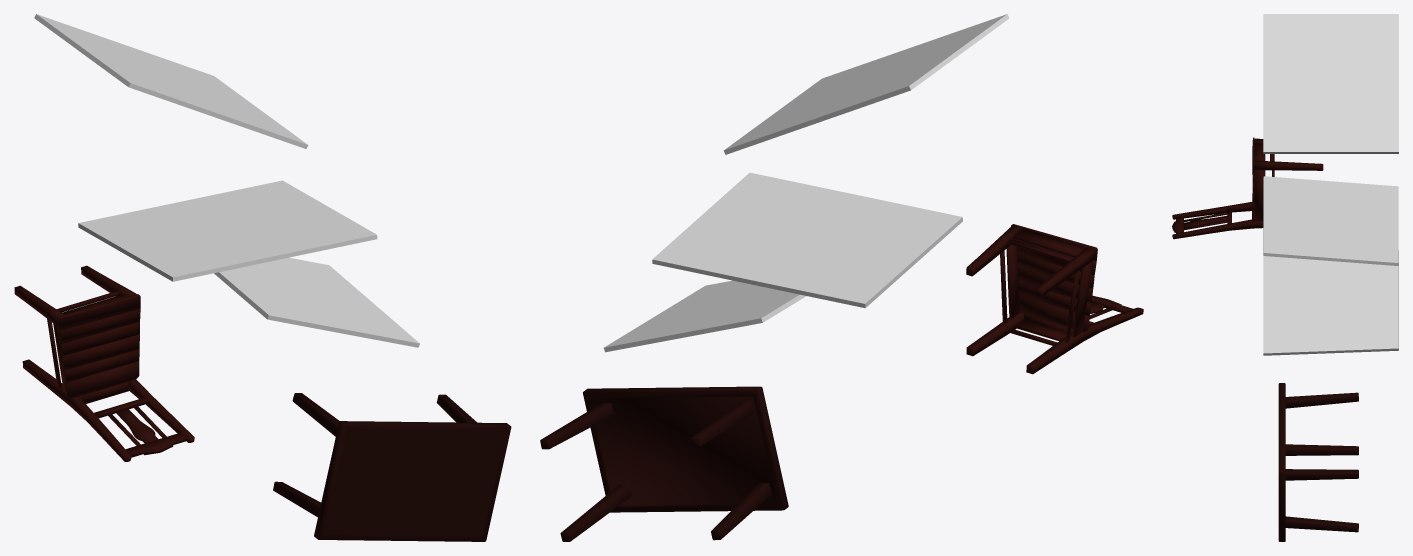
3 renders of one model, left to right at view 1: azimuth 30°, elevation 25°; view 2: azimuth 150°, elevation 25°; view 3: azimuth 270°, elevation 25°, orthographic. The views are drawn at different scales.
Visible parts, largest first — view 1: diffuse_table_01, glass_window_01, diffuse_chair_02, glass_table_02, glass_window_03; view 2: diffuse_table_01, glass_window_01, diffuse_chair_02, glass_window_03, glass_table_02; view 3: glass_window_03, glass_table_02, glass_window_01, diffuse_table_01, diffuse_chair_02.
Boxes of the visible parts, box(x1,y1,x2,y2) form: diffuse_table_01: box(273, 393, 511, 541); glass_window_01: box(78, 180, 377, 281); diffuse_chair_02: box(14, 265, 194, 461); glass_table_02: box(214, 257, 419, 347); glass_window_03: box(34, 14, 308, 148); diffuse_table_01: box(540, 386, 788, 541); glass_window_01: box(652, 172, 962, 308); diffuse_chair_02: box(966, 224, 1143, 374); glass_window_03: box(723, 14, 1009, 154); glass_table_02: box(604, 280, 806, 352); glass_window_03: box(1263, 14, 1398, 153); glass_table_02: box(1263, 250, 1398, 355); glass_window_01: box(1263, 176, 1398, 265); diffuse_table_01: box(1278, 383, 1358, 541); diffuse_chair_02: box(1172, 137, 1323, 239).
Bounding box in the file's own units: 231 × 260 × 134.
